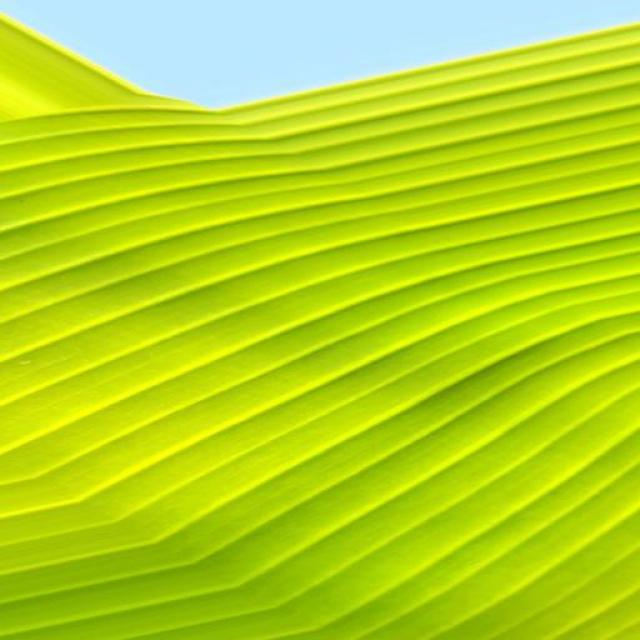Black_leaf_spot: (0, 63, 637, 639)
